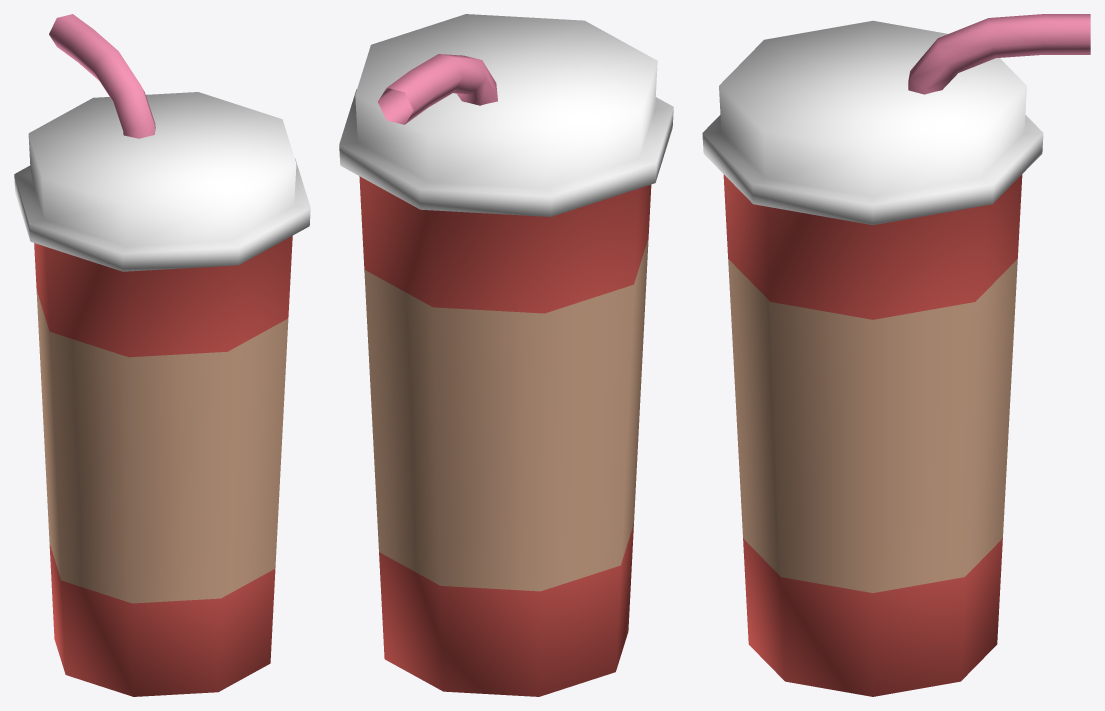
Rendered from Drink1.fbx.
3 views of the same model, side by side, from view 1: azimuth 30°, elevation 25°; view 2: azimuth 150°, elevation 25°; view 3: azimuth 270°, elevation 25° (orthographic). The views are drawn at different scales.
Visible parts, largest first — view 1: Drink_1; view 2: Drink_1; view 3: Drink_1.
Boxes of the visible parts, x1,y1,x2,y2 form: Drink_1: (14, 14, 310, 696); Drink_1: (339, 14, 673, 696); Drink_1: (702, 14, 1090, 696).
Bounding box in the file's own units: 23.05 × 46.7 × 26.23.
